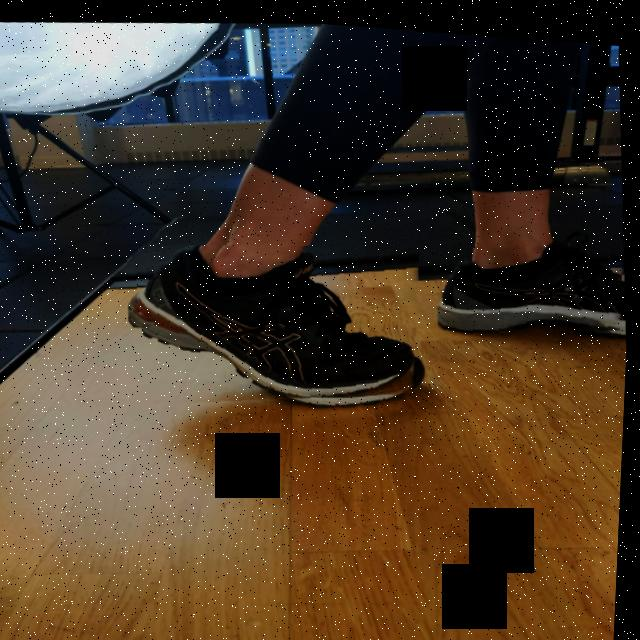shoe: (124, 222, 434, 420), (434, 220, 632, 340)
